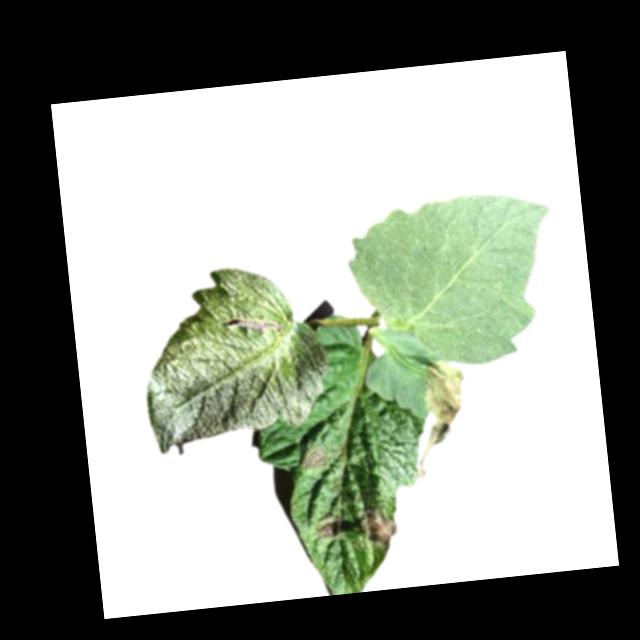Late_blight: (415, 358, 473, 466), (360, 502, 397, 551), (302, 444, 335, 472), (315, 515, 342, 539)
healthy: (342, 185, 567, 377), (134, 257, 337, 457)
